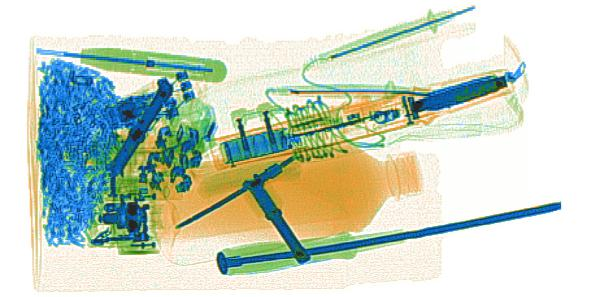battery: (219, 125, 295, 167)
